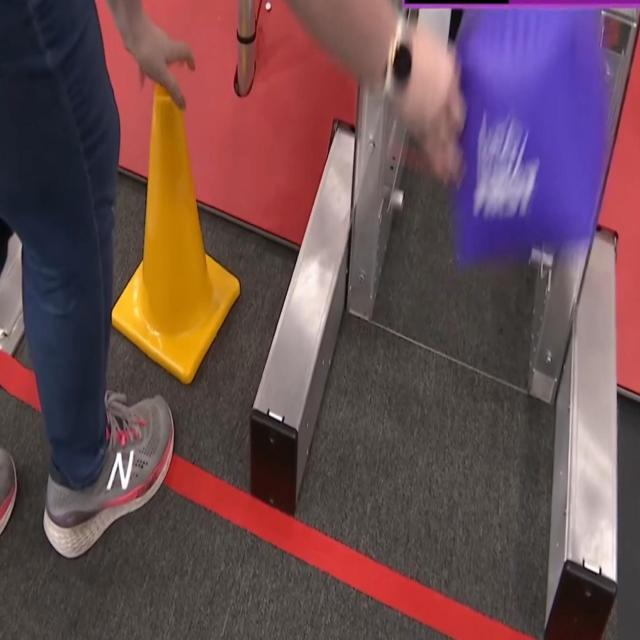frc_cone: (114, 83, 238, 386)
frc_cube: (446, 0, 608, 276)
